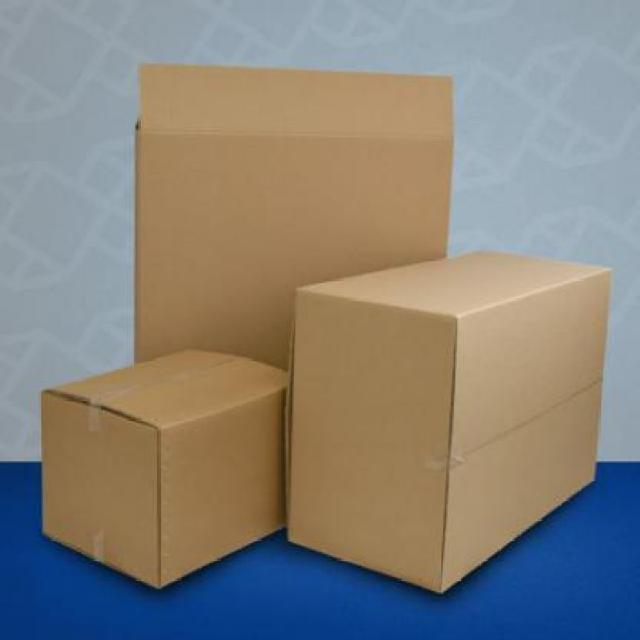box: (273, 241, 624, 601), (128, 56, 460, 398), (30, 338, 292, 600)
